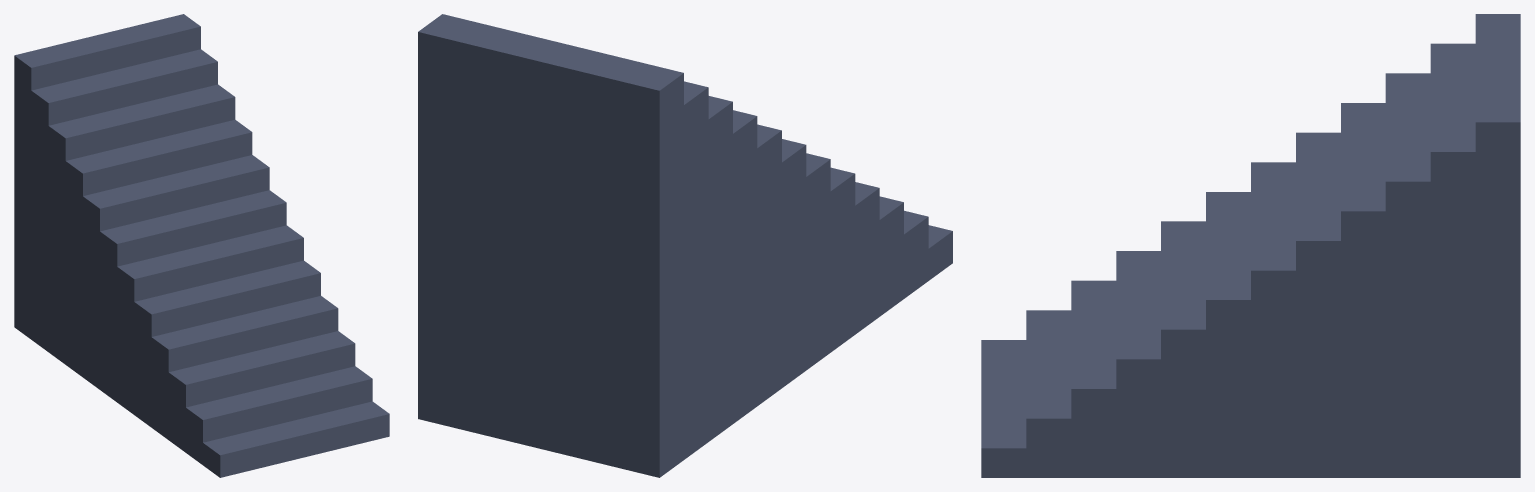
File: staircase-D0VVtrjj.glb
3 views of the same model, side by side, from view 1: azimuth 30°, elevation 25°; view 2: azimuth 150°, elevation 25°; view 3: azimuth 270°, elevation 25° (orthographic). The views are drawn at different scales.
Parts seen in each view (by area): view 1: stairs; view 2: stairs; view 3: stairs.
Boxes of the visible parts, box(x1,y1,x2,y2) form: stairs: box(14, 14, 389, 477); stairs: box(418, 14, 952, 477); stairs: box(981, 14, 1520, 477).
Bounding box in the file's own units: 2 × 3.06 × 4.21.
